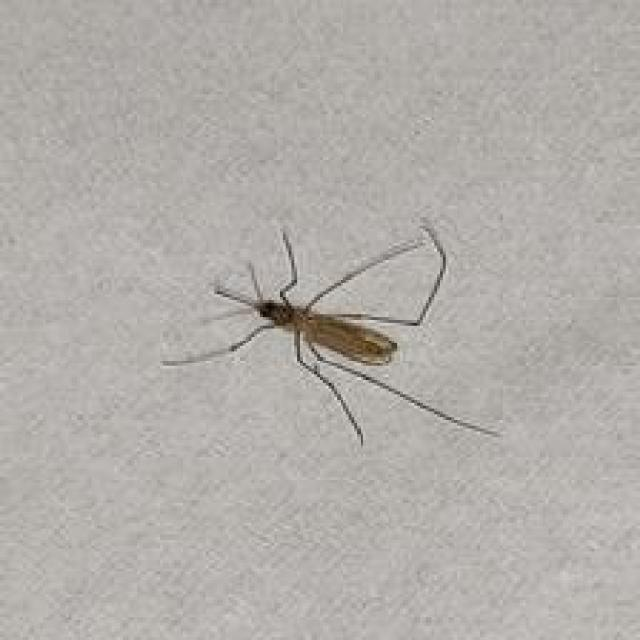Culex: (158, 223, 502, 448)
